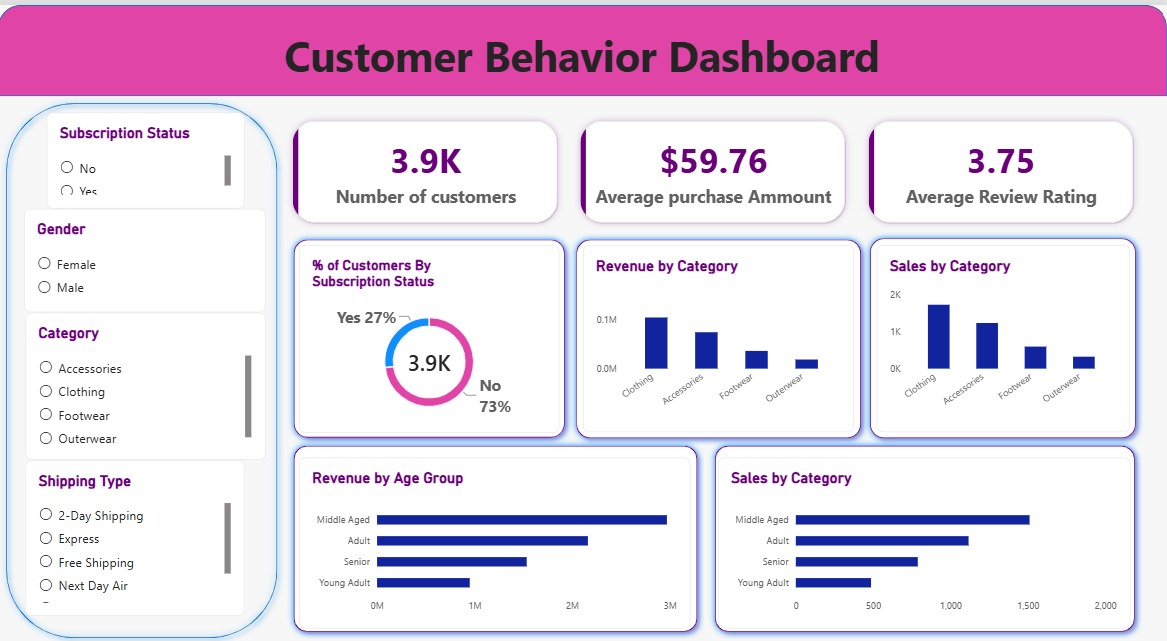

The dashboard page shown, as its layout file describes it:
{"tool":"powerbi","page":{"name":"Page 2","canvas":[1500,820],"ordinal":1},"visuals":[{"type":"cardVisual","fields":{"Data":["customer_behavior customer.Number of customers","customer_behavior customer.Average purchase Ammount","customer_behavior customer.Average Review Rating"]},"box":[367.1,137.9,1099.6,152.3],"z":0},{"type":"shape","box":[0,0,1500.3,117],"z":1000},{"type":"textbox","box":[367.1,28.7,1553,87.8],"z":2000},{"type":"shape","box":[732.3,292.3,383.2,272.8],"z":3000},{"type":"shape","box":[370.3,292.1,365.5,272.1],"z":4000},{"type":"shape","box":[1109,290.6,358.8,274.4],"z":5000},{"type":"donutChart","title":"% of Customers By Subscription Status","fields":{"Category":["customer_behavior customer.subscription_status"],"Y":["CountNonNull(customer_behavior customer.customer_id)"]},"box":[386.3,308,333.6,241],"z":6000},{"type":"clusteredColumnChart","title":"Revenue by Category","fields":{"Y":["Sum(customer_behavior customer.purchase_amount)"],"Category":["customer_behavior customer.category"]},"box":[750.2,308.5,347.5,240.3],"z":7000},{"type":"clusteredColumnChart","title":"Sales by Category","fields":{"Category":["customer_behavior customer.category"],"Y":["CountNonNull(customer_behavior customer.purchase_amount)"]},"box":[1126.9,308.5,324.7,240.3],"z":8000},{"type":"shape","box":[1.6,117,365.5,703.7],"z":9000},{"type":"listSlicer","title":"Subscription Status","fields":{"Values":["customer_behavior customer.subscription_status"]},"box":[62.5,137.9,253.3,123.4],"z":10000},{"type":"listSlicer","title":"Gender ","fields":{"Values":["customer_behavior customer.gender"]},"box":[33.7,261.3,309.4,133],"z":11000},{"type":"listSlicer","title":"Category","fields":{"Values":["customer_behavior customer.category"]},"box":[35.3,394.3,307.8,189.1],"z":12000},{"type":"listSlicer","title":"Shipping  Type","fields":{"Values":["customer_behavior customer.shipping_type"]},"box":[35.3,583.5,280.5,200.4],"z":13000},{"type":"shape","box":[370.3,556.2,535.4,256.5],"z":14000},{"type":"shape","box":[910.5,556.2,556.2,256.5],"z":15000},{"type":"clusteredBarChart","title":"Sales by Category","fields":{"Y":["CountNonNull(customer_behavior customer.customer_id)"],"Category":["customer_behavior customer.Age Group"]},"box":[923.3,580.3,529,219.6],"z":16000},{"type":"clusteredBarChart","title":"Revenue by Age Group","fields":{"Y":["Sum(customer_behavior customer.customer_id)"],"Category":["customer_behavior customer.Age Group"]},"box":[386.3,580.3,501.7,219.6],"z":17000}]}

Visuals, with their boxes in screenshot pixels (x1, y1, x2, y2), scaled from the page's 1500x820 canvas onto the 1167x641 screenshot:
cardVisual - customer_behavior customer.Number of customers x customer_behavior customer.Average purchase Ammount: [x1=286, y1=108, x2=1141, y2=227]
shape: [x1=0, y1=0, x2=1166, y2=91]
textbox: [x1=286, y1=22, x2=1166, y2=91]
shape: [x1=570, y1=228, x2=868, y2=442]
shape: [x1=288, y1=228, x2=572, y2=441]
shape: [x1=863, y1=227, x2=1142, y2=442]
"% of Customers By Subscription Status" donutChart: [x1=301, y1=241, x2=560, y2=429]
"Revenue by Category" clusteredColumnChart: [x1=584, y1=241, x2=854, y2=429]
"Sales by Category" clusteredColumnChart: [x1=877, y1=241, x2=1129, y2=429]
shape: [x1=1, y1=91, x2=286, y2=640]
"Subscription Status" listSlicer: [x1=49, y1=108, x2=246, y2=204]
"Gender " listSlicer: [x1=26, y1=204, x2=267, y2=308]
"Category" listSlicer: [x1=27, y1=308, x2=267, y2=456]
"Shipping  Type" listSlicer: [x1=27, y1=456, x2=246, y2=613]
shape: [x1=288, y1=435, x2=705, y2=635]
shape: [x1=708, y1=435, x2=1141, y2=635]
"Sales by Category" clusteredBarChart: [x1=718, y1=454, x2=1130, y2=625]
"Revenue by Age Group" clusteredBarChart: [x1=301, y1=454, x2=691, y2=625]
